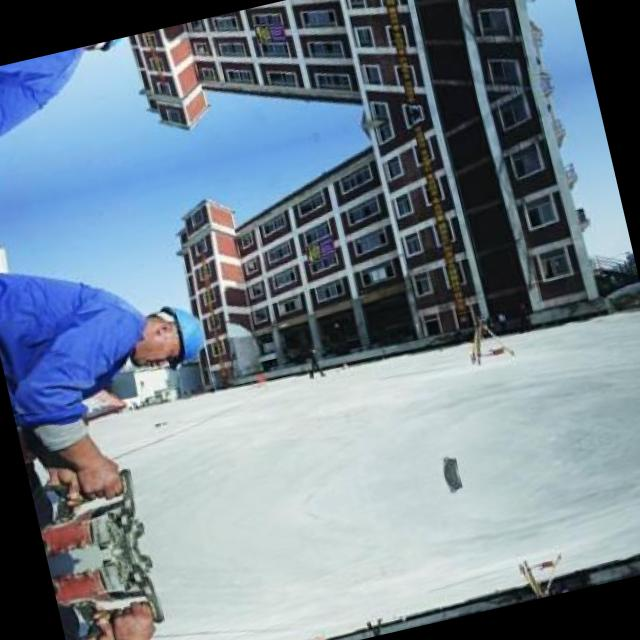helmet: (116, 294, 211, 374), (56, 34, 142, 66)
